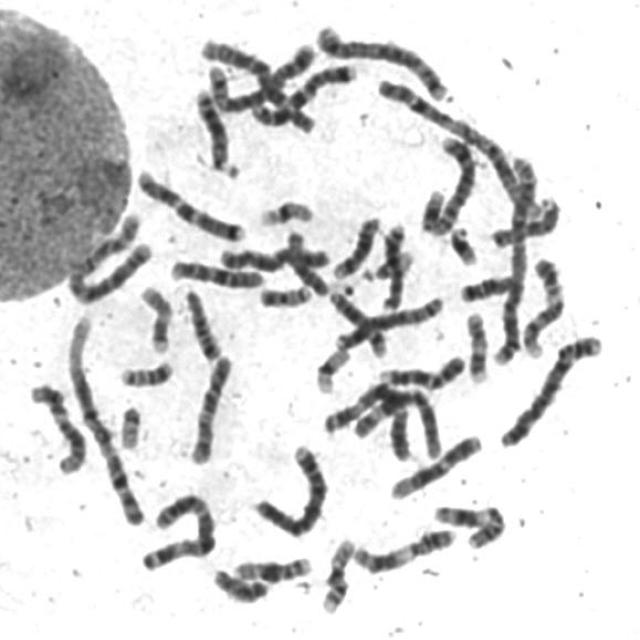A1: (373, 72, 546, 220), (62, 307, 149, 529)
A2: (488, 142, 542, 367), (63, 204, 155, 306)
A3: (319, 374, 418, 464), (137, 484, 220, 573)
B4: (494, 326, 608, 451), (249, 436, 334, 540)
B5: (311, 16, 454, 104), (202, 34, 318, 116)
C10: (185, 348, 238, 467), (165, 251, 268, 291)
C11: (348, 520, 460, 575), (429, 495, 511, 551)
C12: (386, 426, 486, 501), (24, 374, 91, 477)
C6: (188, 35, 317, 139), (343, 388, 442, 460)
C7: (131, 161, 251, 243), (246, 54, 360, 128)
C8: (330, 288, 448, 351), (429, 132, 474, 238)
C9: (516, 250, 569, 360), (373, 346, 471, 390)
D13: (280, 221, 354, 301), (189, 81, 241, 181)
D14: (324, 281, 392, 358), (328, 208, 387, 280)
D15: (485, 190, 564, 249), (458, 271, 525, 304)
E16: (316, 530, 359, 615), (229, 548, 317, 584)
E17: (136, 278, 178, 356), (461, 304, 494, 386)
E18: (178, 282, 227, 364), (208, 560, 273, 605)
F19: (310, 339, 354, 395), (254, 191, 318, 228)
F20: (115, 352, 178, 389), (254, 277, 316, 309)
G21: (444, 218, 483, 268), (416, 181, 448, 236)
G22: (358, 243, 417, 282), (115, 396, 146, 451)
X: (214, 237, 335, 273)
Y: (382, 223, 412, 276)
